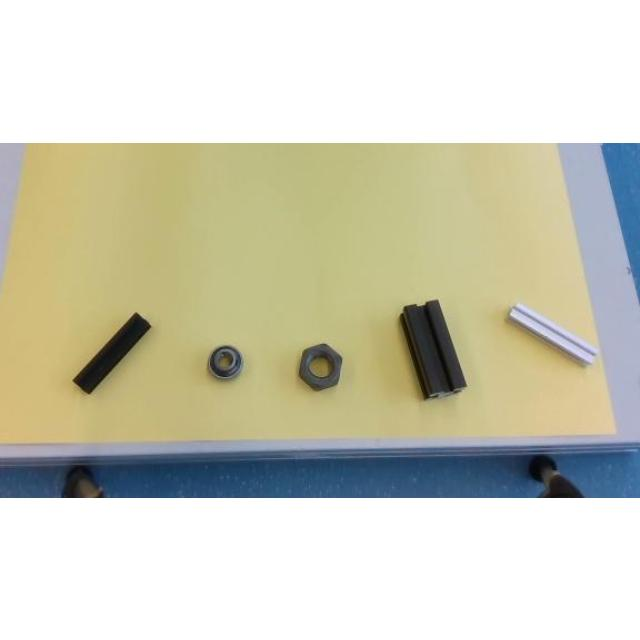Bearing2: (208, 344, 242, 378)
F20_20_B: (74, 312, 150, 393)
F20_20_G: (507, 302, 598, 364)
M30: (300, 342, 342, 388)
S40_40_B: (401, 298, 467, 398)
